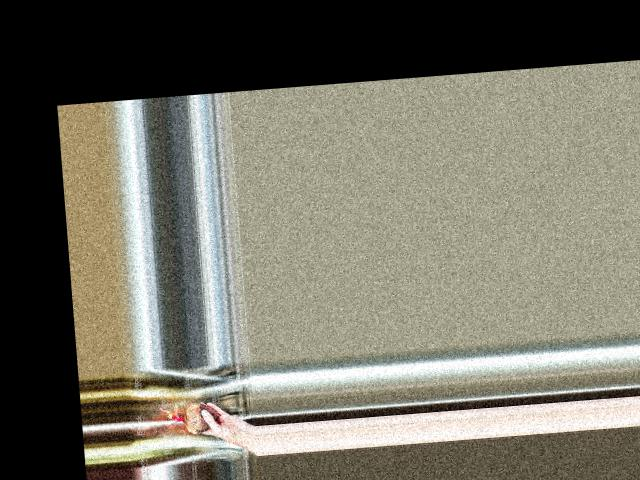beet: (160, 400, 220, 435)
